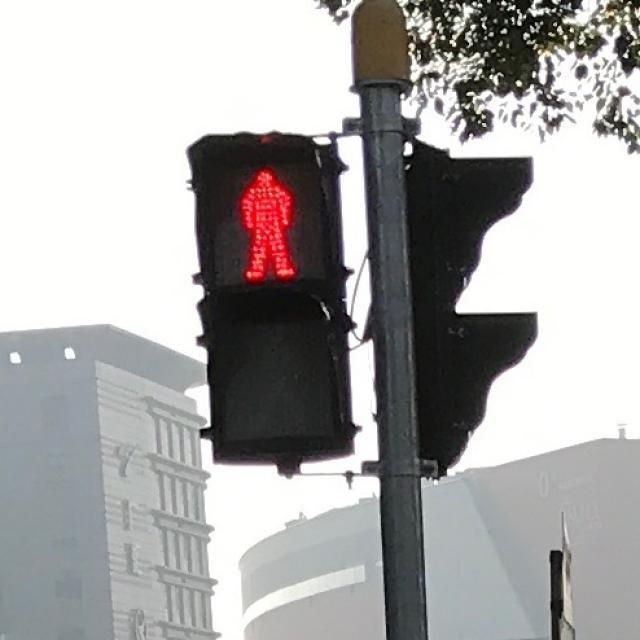red-crossing: (205, 156, 322, 288)
